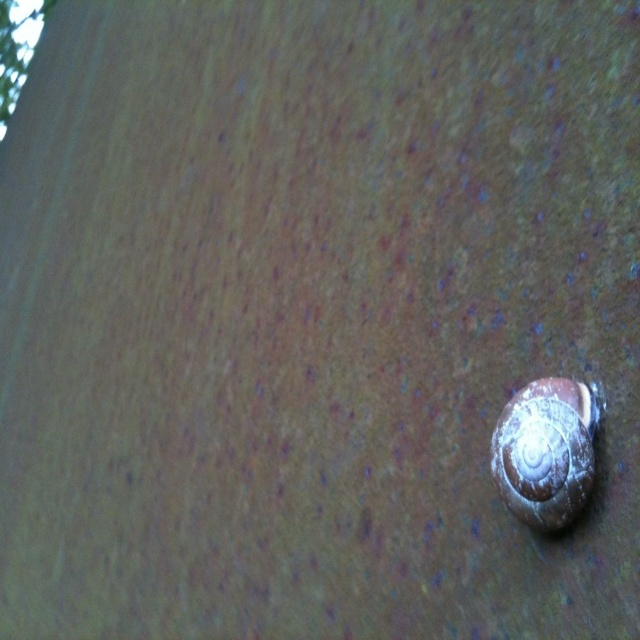Snail: (488, 369, 611, 542)
